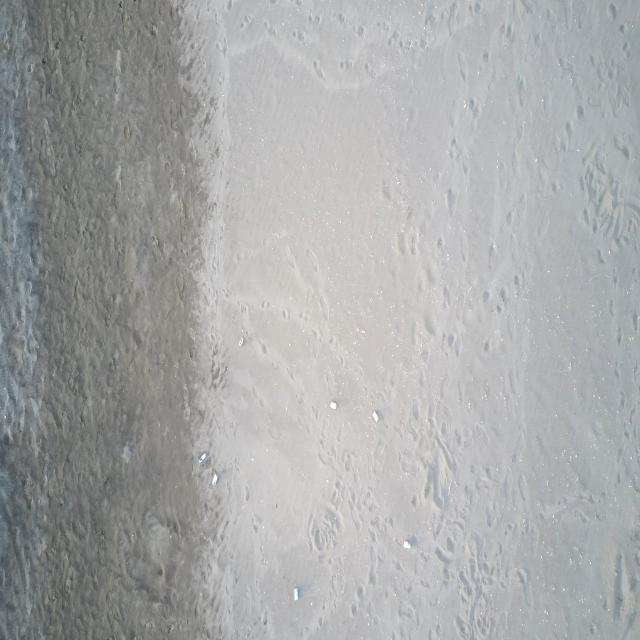tin-and-aluminum-cans: (211, 473, 219, 486), (402, 540, 412, 550), (199, 452, 206, 465), (372, 410, 379, 422), (294, 586, 299, 602), (330, 400, 337, 410), (239, 338, 245, 348)
